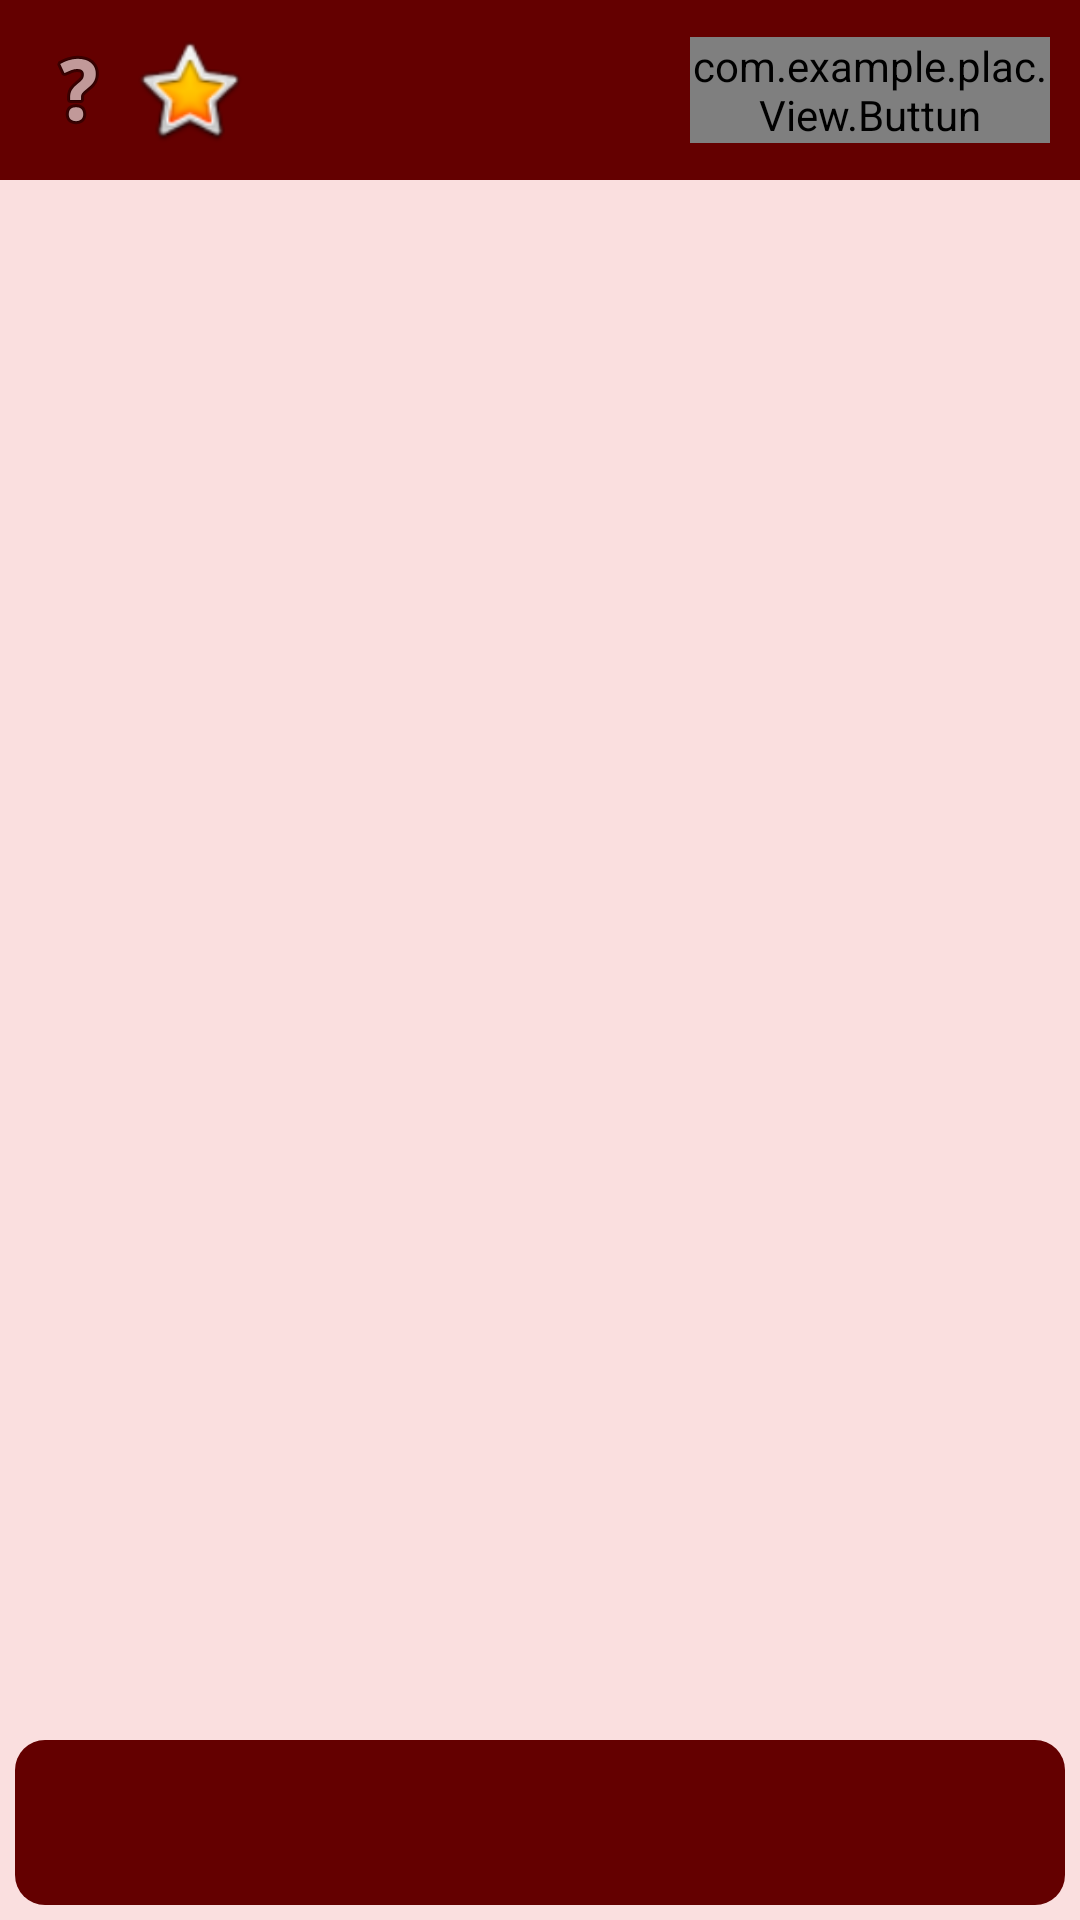

Where icons sit on this 1080×1920 app screen, as (x1, y1, x2, y2):
help: (58, 56, 99, 124)
star on: (142, 44, 238, 138)
